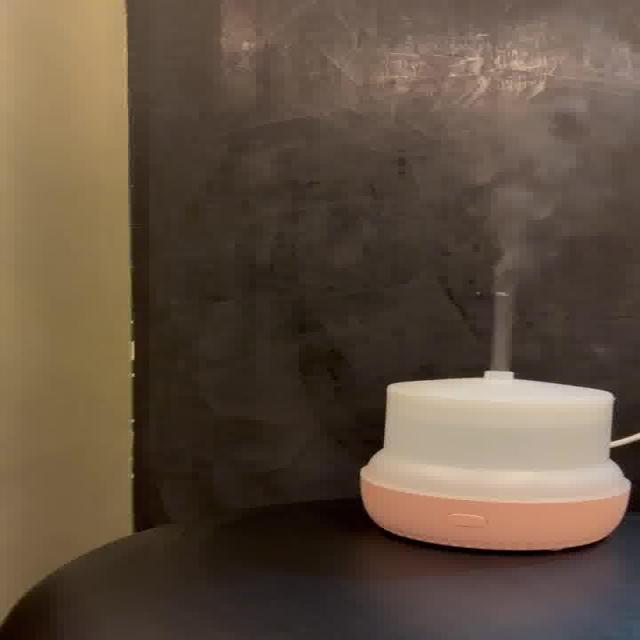fire: (465, 97, 615, 367)
